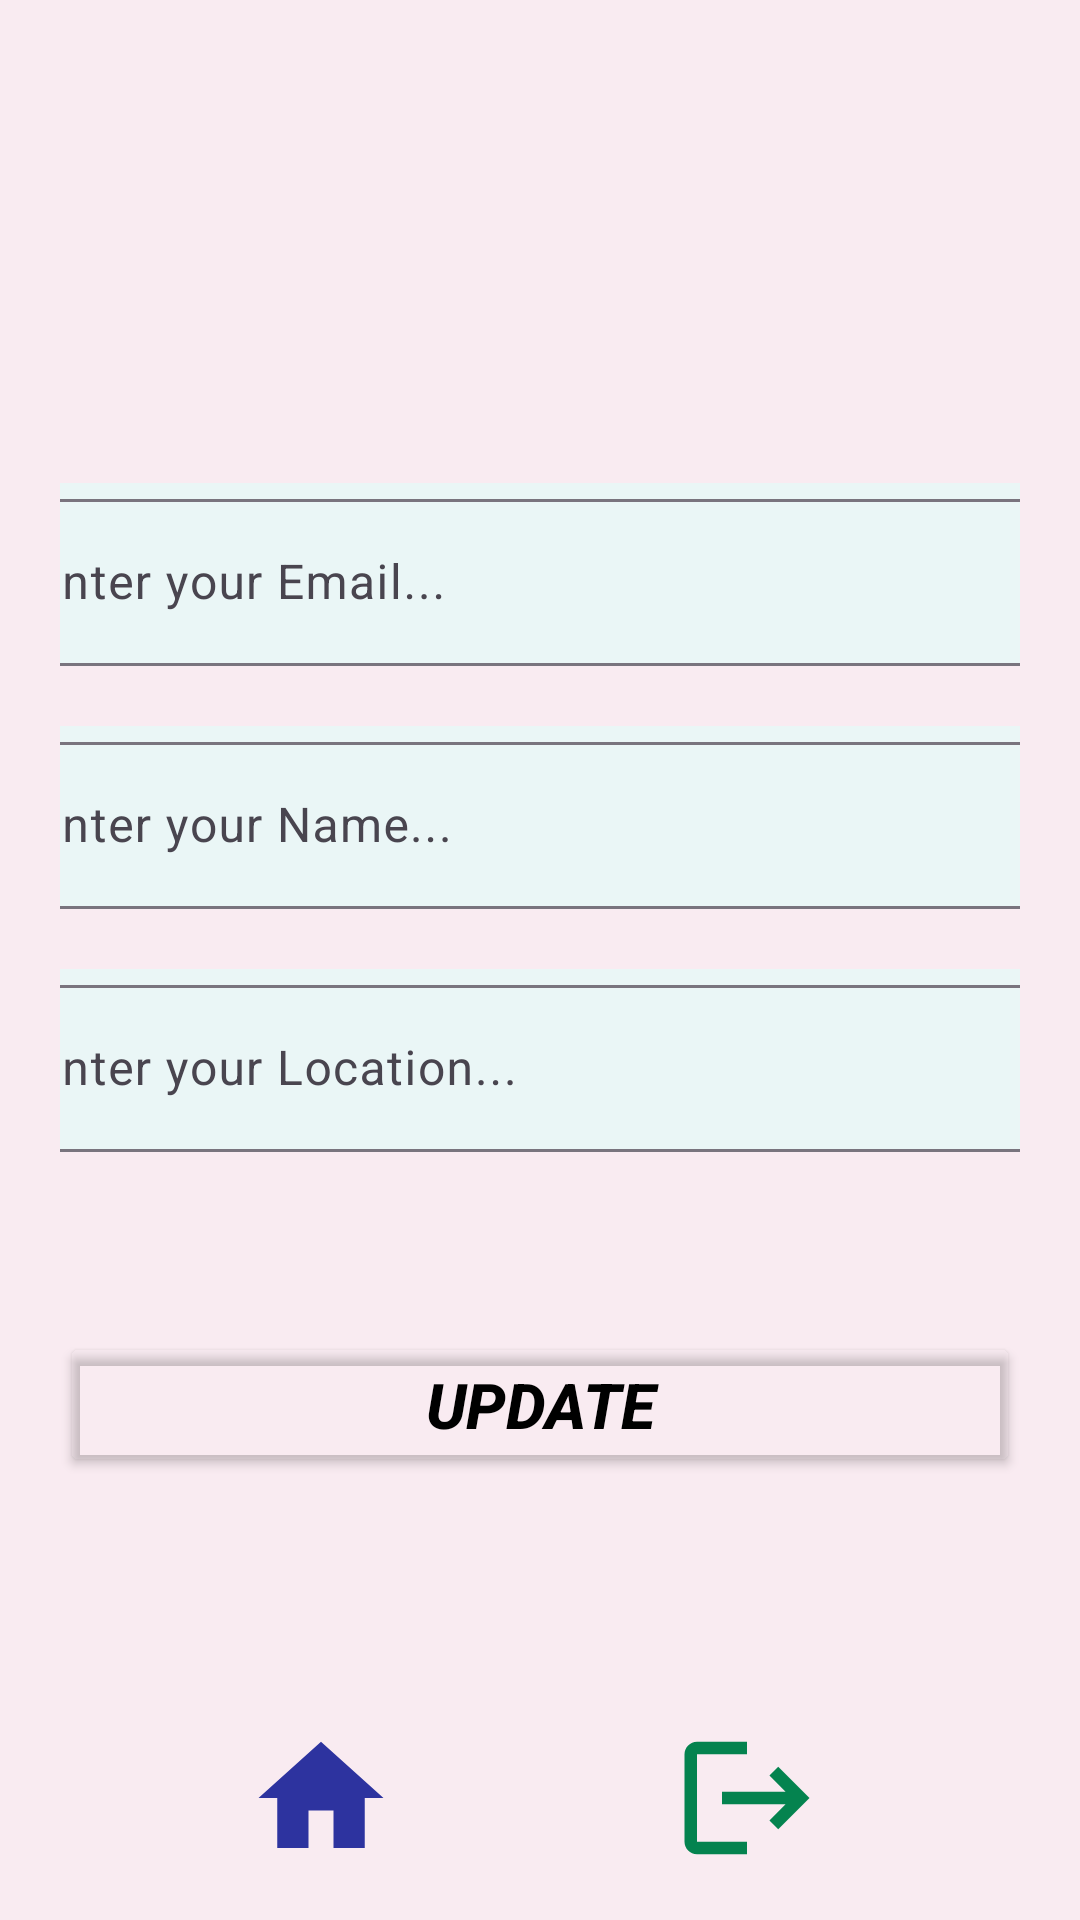

Point at icon controls on the screen. Image size 1080px×1920px, points as (x,y).
home: (321,1795)
